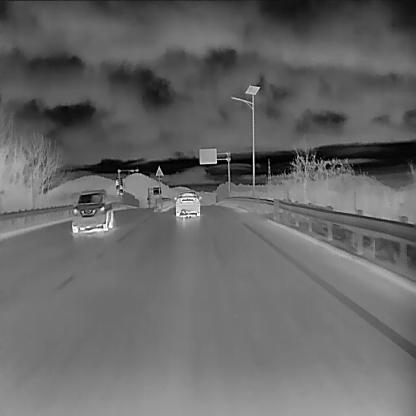car: (70, 185, 113, 233), (173, 188, 201, 216)
